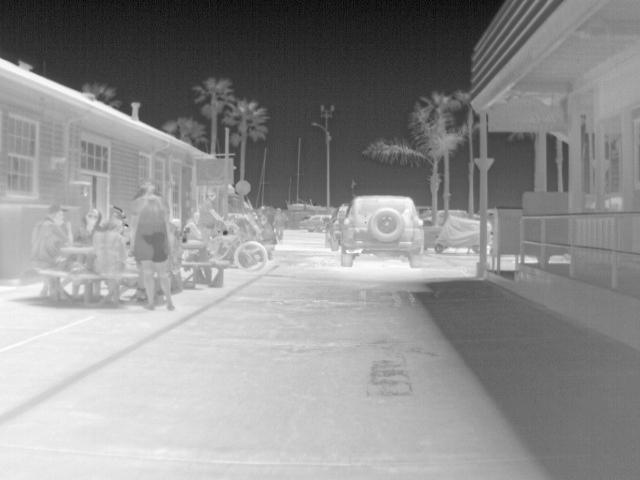car: (339, 193, 423, 272), (324, 204, 350, 252), (299, 212, 333, 232)
person: (130, 179, 179, 311), (18, 208, 79, 273), (186, 190, 241, 257), (91, 218, 129, 274), (79, 208, 101, 245), (270, 205, 289, 242)
